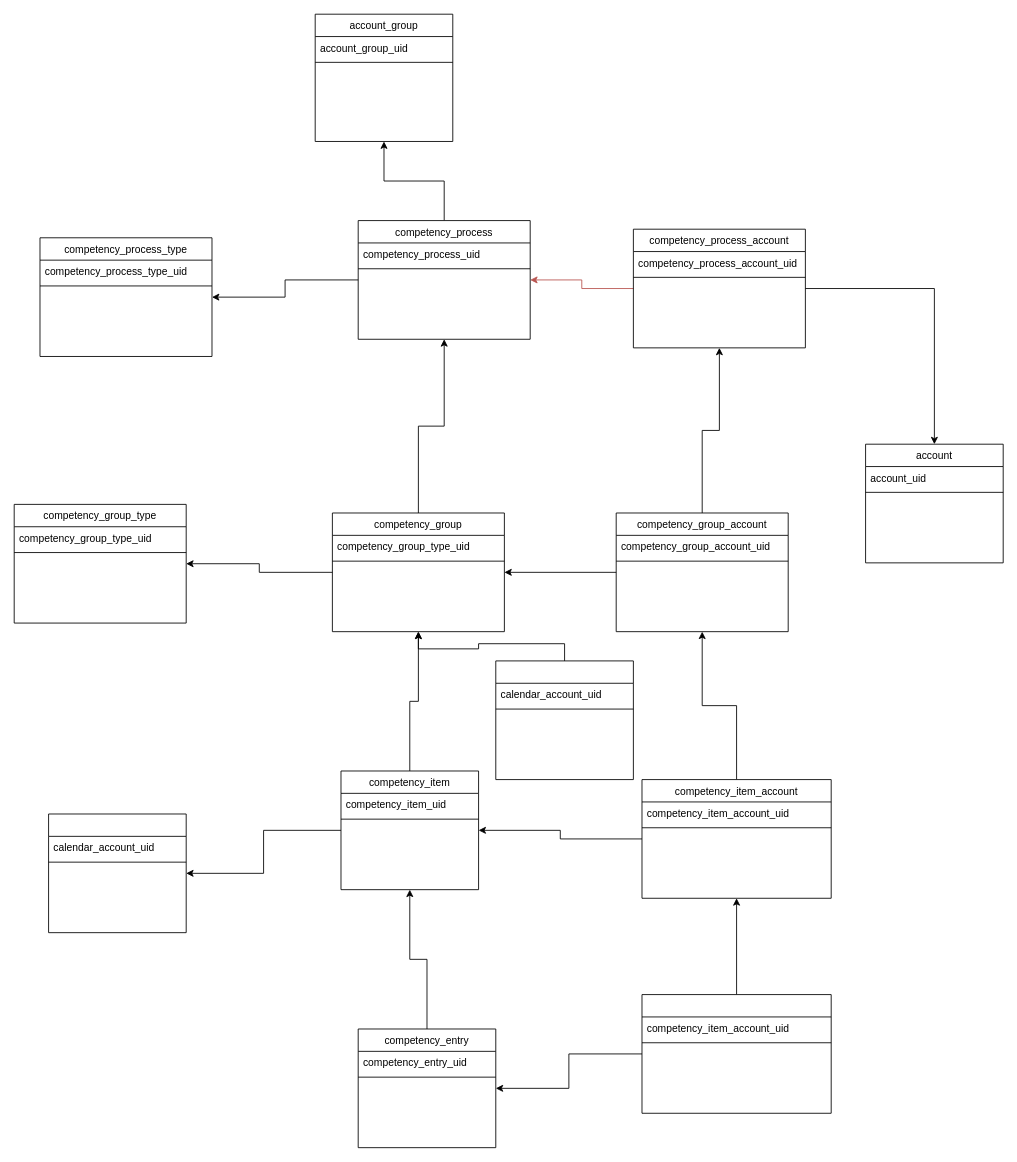
Image size: 1017x1162. Some labels were removed from this diagram. The shapes that lost their labels are listed below. From the top down, each one's box as (x1, y1, x2, y2) in pixels, then its label:
(495, 660, 633, 780): competency_ranking
(48, 813, 186, 933): competency_item_type
(641, 994, 831, 1113): competency_entry_account
